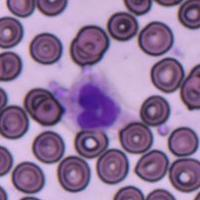N: (62, 66, 130, 132)
